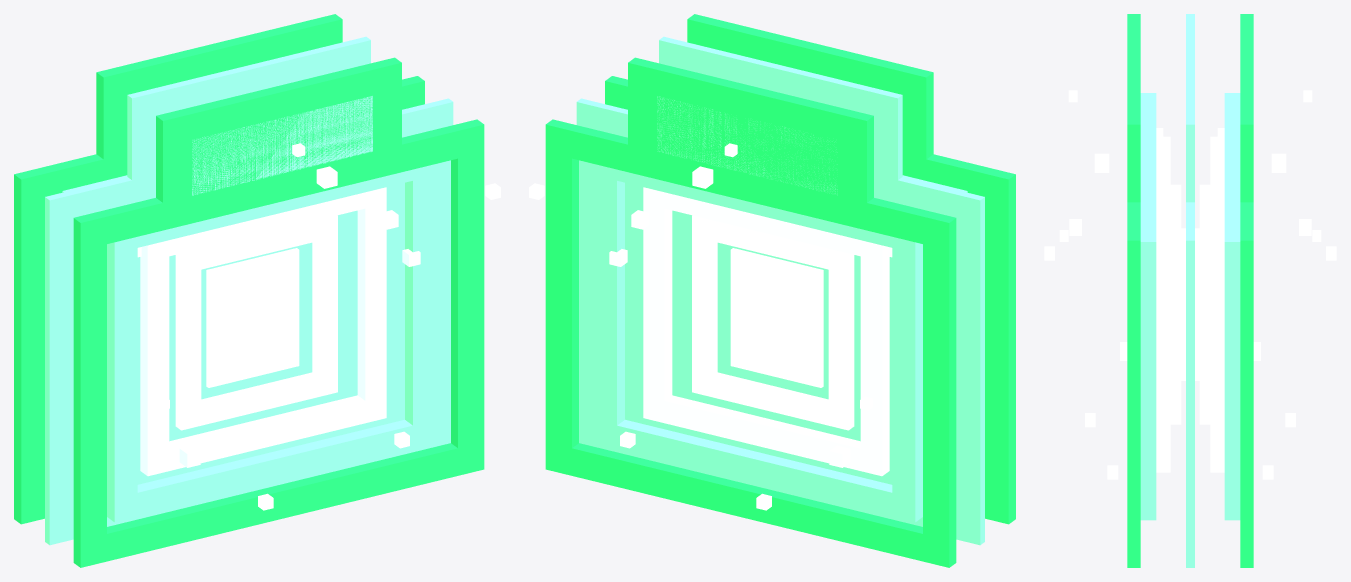
The model's file is tt-portal-green.glb.
The picture shows the model from 3 angles, left to right: view 1: azimuth 30°, elevation 25°; view 2: azimuth 150°, elevation 25°; view 3: azimuth 270°, elevation 25°; orthographic projection. The views are drawn at different scales.
Visible parts, largest first — view 1: box-prop; view 2: box-prop; view 3: box-prop.
Part boxes in pixels (bbox=[...]): box-prop: bbox=[14, 14, 500, 567]; box-prop: bbox=[529, 14, 1015, 567]; box-prop: bbox=[1044, 14, 1336, 567].
Size of the model in its own units: 4.9 by 4.95 by 3.24.
